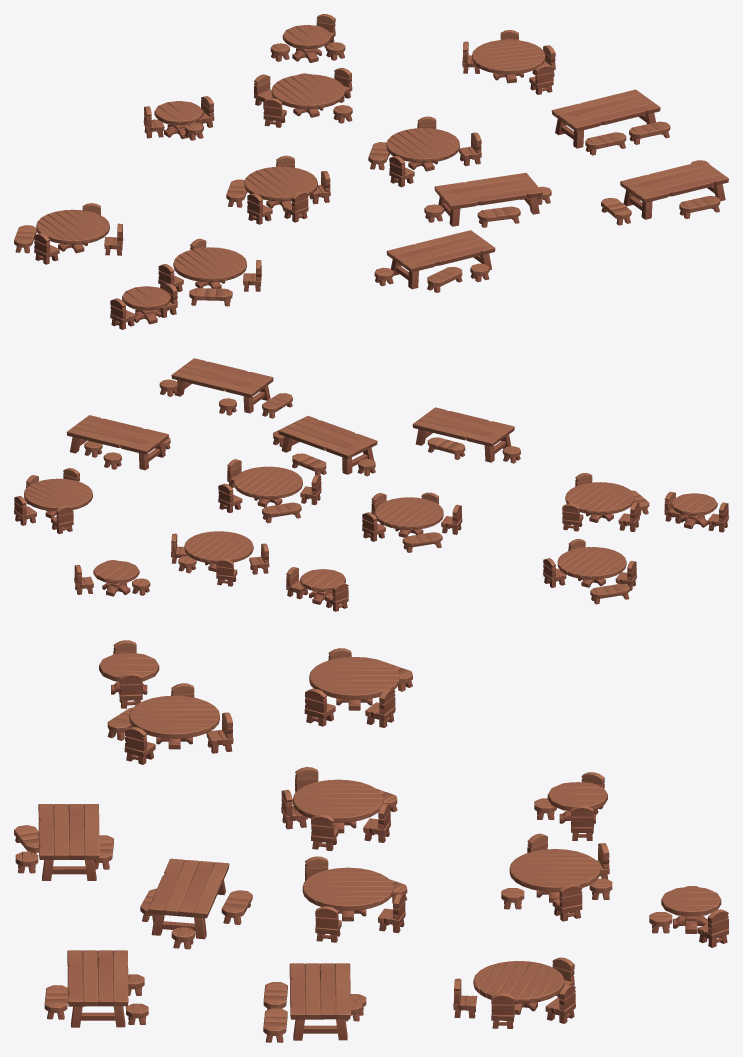
Rendered from Tavern_firstfloor_chairsTables.glb.
3 renders of one model, top to bottom at view 1: azimuth 30°, elevation 25°; view 2: azimuth 150°, elevation 25°; view 3: azimuth 270°, elevation 25°, orthographic. The views are drawn at different scales.
Visible parts, largest first — view 1: table_long.002, table_long.001, table_long.004, table_long.003, table_round_large.005, table_round_large.002, table_round_large.001, table_round_large.004, table_round_large, table_round_large.003, table_round_medium.001, table_round_medium.002 (+15 smaller); view 2: table_long.004, table_long.003, table_long.002, table_long.001, table_round_large.004, table_round_large, table_round_large.003, table_round_large.001, table_round_large.002, table_round_large.005, table_round_medium.001, table_round_medium.002 (+17 smaller); view 3: table_long.003, table_long.002, table_long.004, table_long.001, table_round_large.001, table_round_large.004, table_round_large, table_round_large.002, table_round_large.003, table_round_large.005, table_round_medium.001, table_round_medium (+18 smaller).
Part boxes in pixels (x1=…): table_long.002: x1=620, y1=160, x2=728, y2=219; table_long.001: x1=386, y1=230, x2=495, y2=289; table_long.004: x1=551, y1=89, x2=660, y2=148; table_long.003: x1=434, y1=173, x2=542, y2=226; table_round_large.005: x1=472, y1=39, x2=545, y2=83; table_round_large.002: x1=271, y1=74, x2=345, y2=117; table_round_large.001: x1=173, y1=247, x2=246, y2=288; table_round_large.004: x1=386, y1=128, x2=459, y2=171; table_round_large: x1=36, y1=209, x2=109, y2=253; table_round_large.003: x1=244, y1=166, x2=317, y2=208; table_round_medium.001: x1=282, y1=25, x2=331, y2=62; table_round_medium.002: x1=122, y1=286, x2=170, y2=324; table_long.004: x1=66, y1=415, x2=168, y2=470; table_long.003: x1=278, y1=416, x2=377, y2=474; table_long.002: x1=171, y1=358, x2=273, y2=413; table_long.001: x1=412, y1=407, x2=514, y2=462; table_round_large.004: x1=234, y1=466, x2=302, y2=507; table_round_large: x1=557, y1=547, x2=626, y2=587; table_round_large.003: x1=374, y1=497, x2=443, y2=537; table_round_large.001: x1=565, y1=482, x2=634, y2=522; table_round_large.002: x1=184, y1=531, x2=253, y2=571; table_round_large.005: x1=24, y1=478, x2=92, y2=518; table_round_medium.001: x1=93, y1=560, x2=139, y2=596; table_round_medium.002: x1=671, y1=493, x2=717, y2=528; table_long.003: x1=148, y1=858, x2=229, y2=939; table_long.002: x1=67, y1=950, x2=128, y2=1027; table_long.004: x1=289, y1=963, x2=350, y2=1040; table_long.001: x1=38, y1=804, x2=99, y2=880; table_round_large.001: x1=129, y1=695, x2=219, y2=749; table_round_large.004: x1=302, y1=867, x2=393, y2=921; table_round_large: x1=309, y1=657, x2=399, y2=710; table_round_large.002: x1=509, y1=849, x2=600, y2=902; table_round_large.003: x1=292, y1=779, x2=383, y2=833; table_round_large.005: x1=473, y1=961, x2=564, y2=1014; table_round_medium.001: x1=661, y1=887, x2=721, y2=933; table_round_medium: x1=547, y1=782, x2=607, y2=823.
Size of the model in its own units: 28.93 by 1.28 by 23.58.
Materials: 1 (1 with a texture image).
